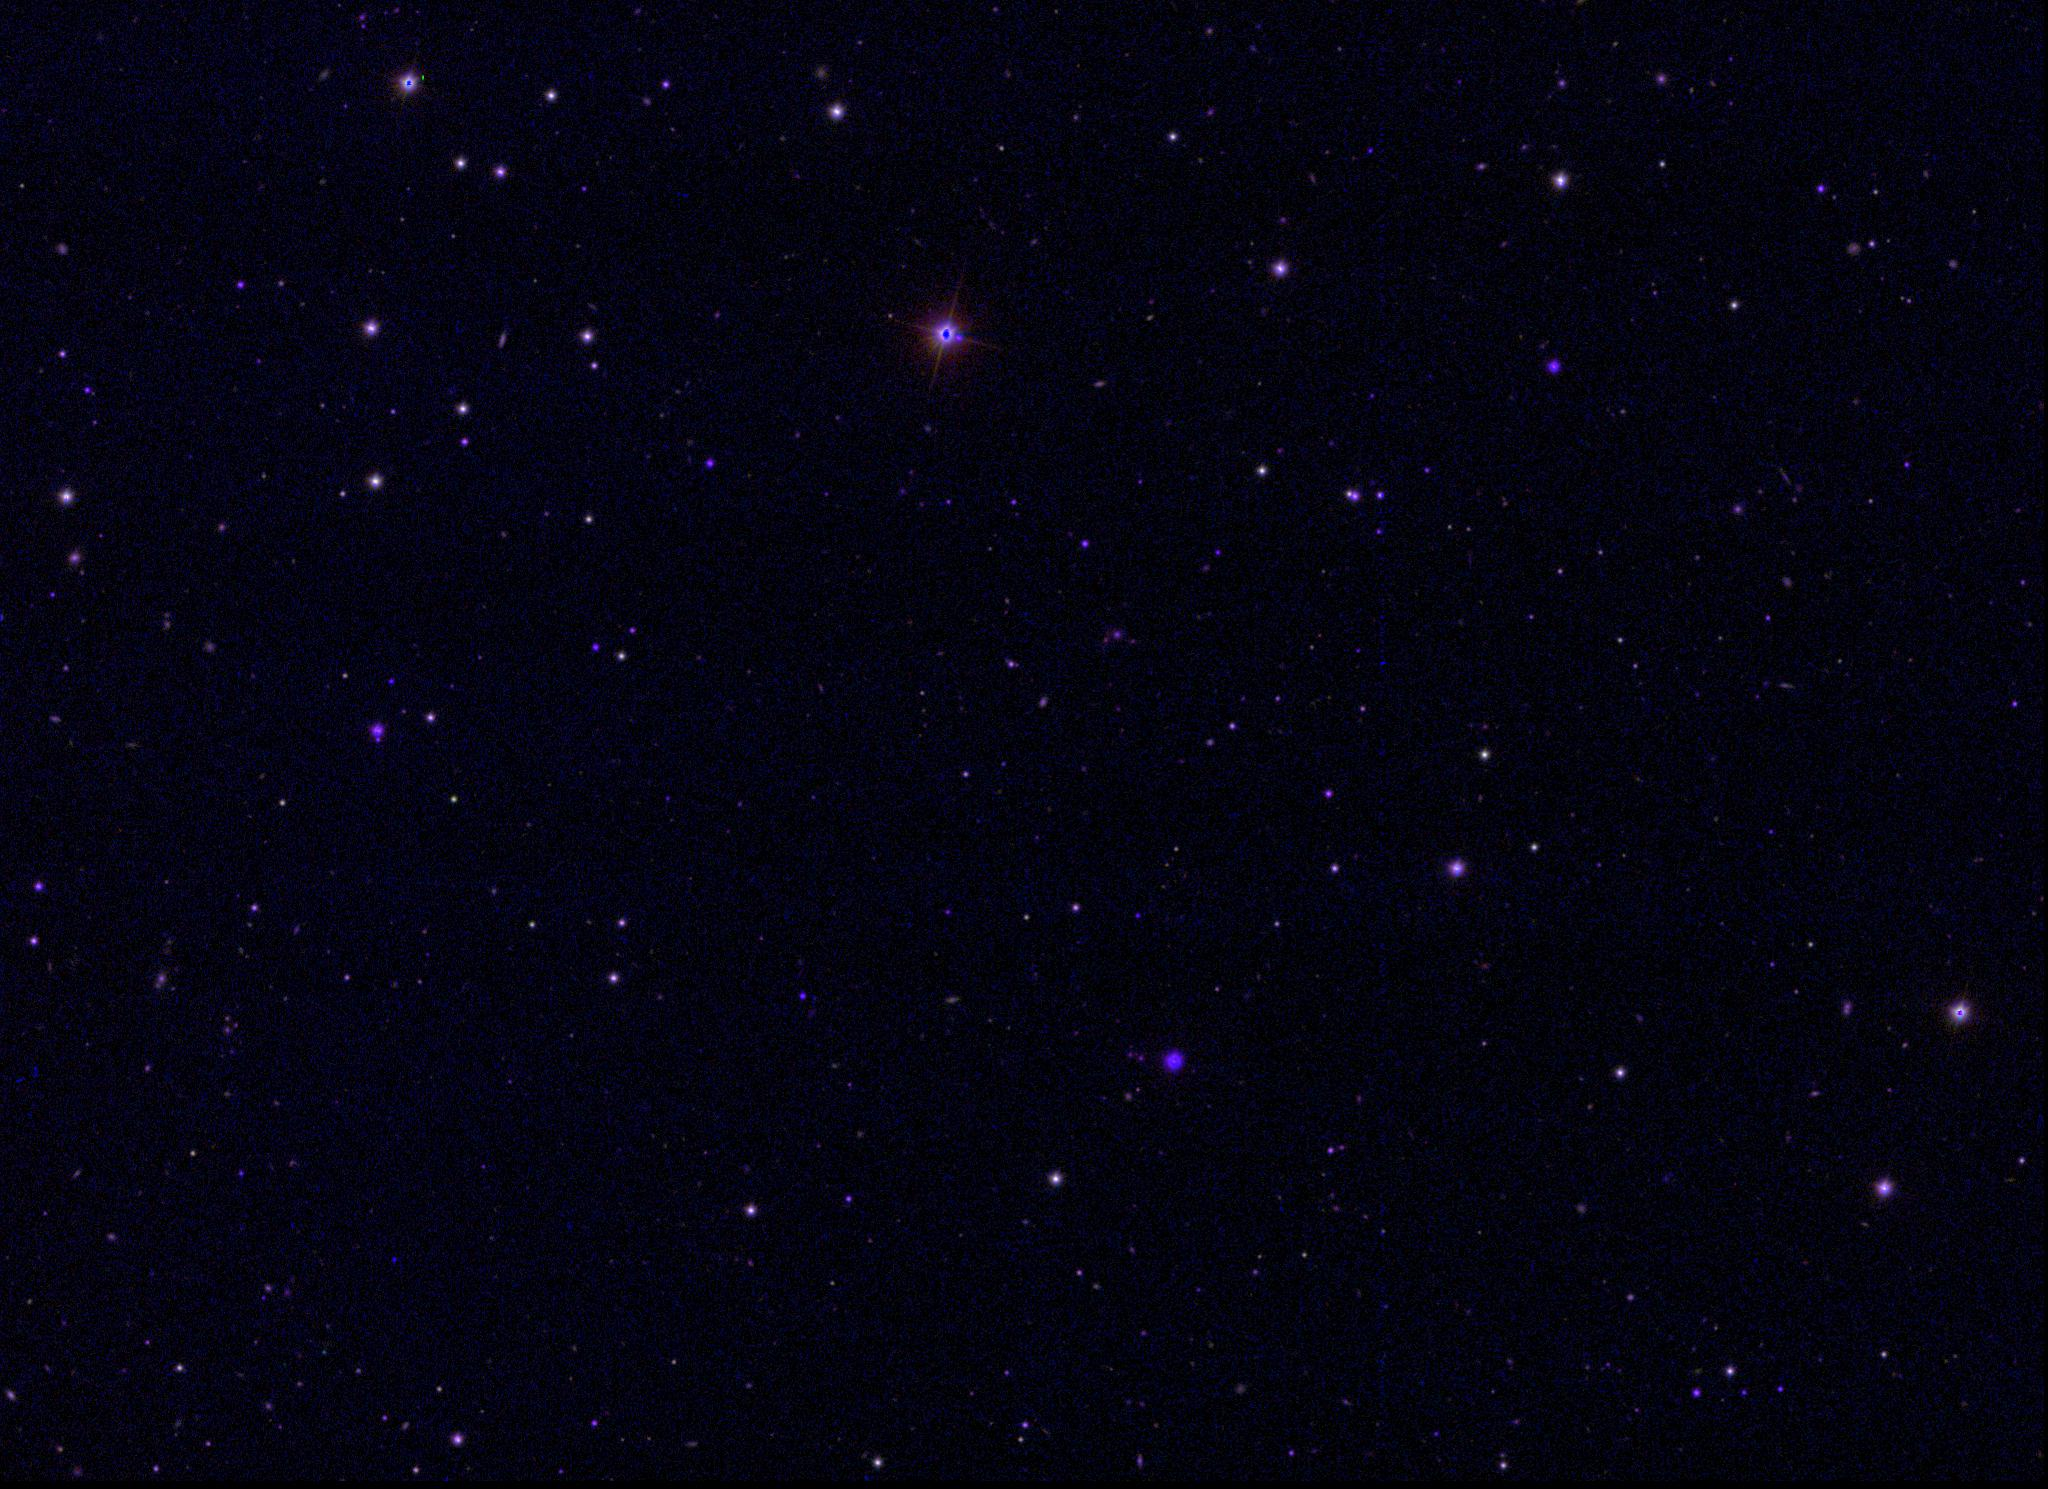L: (388, 1254, 402, 1266)
